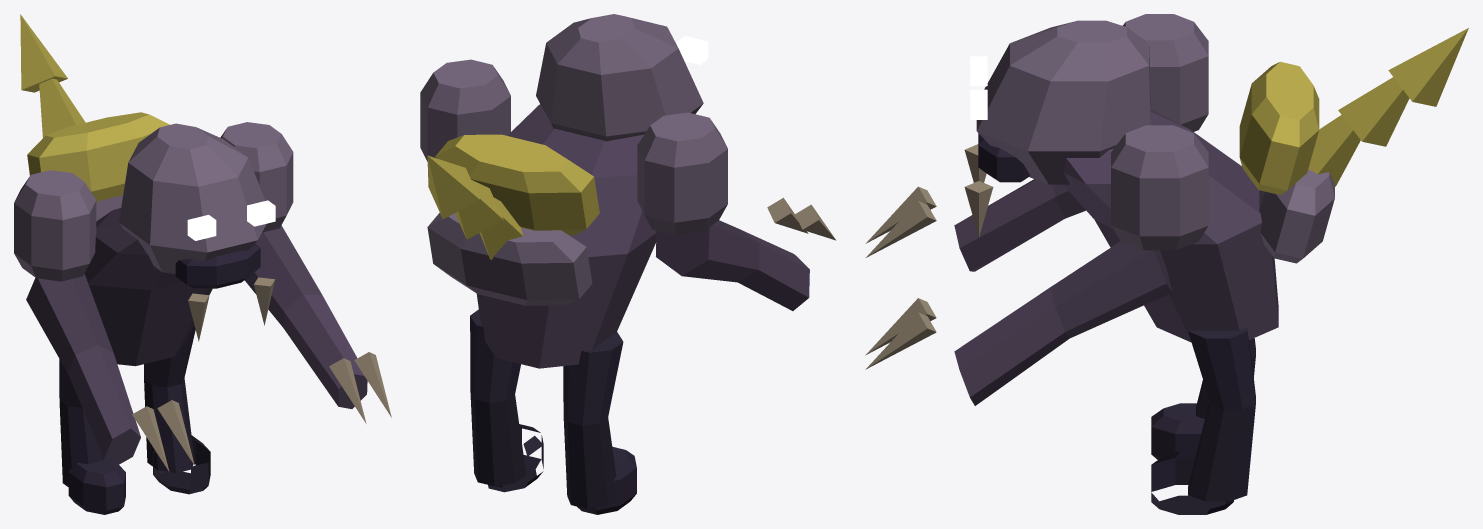
The model's file is enemy_runner.glb.
3 renders of one model, left to right at view 1: azimuth 30°, elevation 25°; view 2: azimuth 150°, elevation 25°; view 3: azimuth 270°, elevation 25°, orthographic. The views are drawn at different scales.
Visible parts, largest first — view 1: body, arms, eyes; view 2: body, arms, eyes; view 3: body, arms, eyes.
Part boxes in pixels (x1,y1,x2,y2): body: [20, 14, 275, 514]; arms: [14, 122, 391, 471]; eyes: [187, 200, 275, 240]; body: [427, 14, 703, 514]; arms: [420, 59, 836, 310]; eyes: [677, 36, 708, 64]; body: [964, 20, 1468, 514]; arms: [865, 14, 1208, 405]; eyes: [970, 56, 987, 119].
Size of the model in its own units: 0.5605 by 0.7971 by 0.9616.
